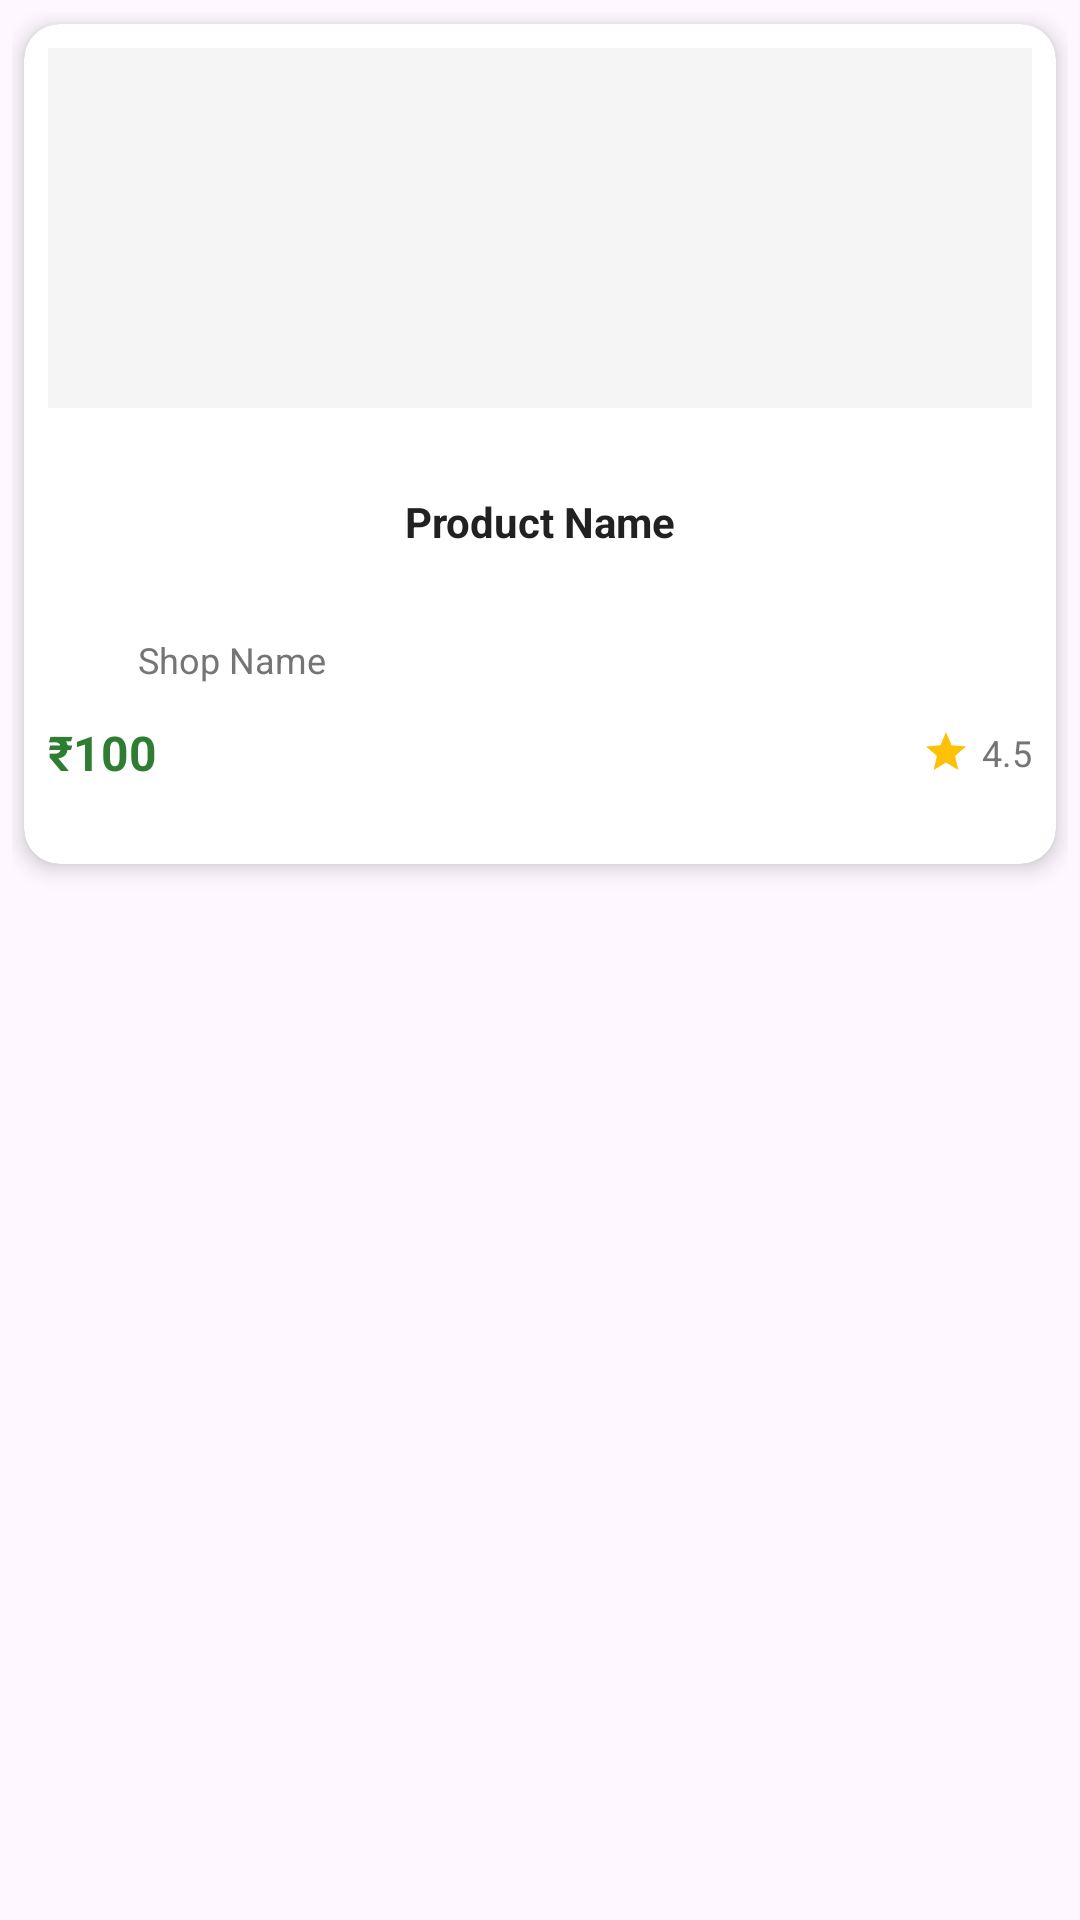

Where icons sit on this 1080 x 1920 app screen, as (x1, y1, x2, y2):
star: (926, 732, 966, 770)
